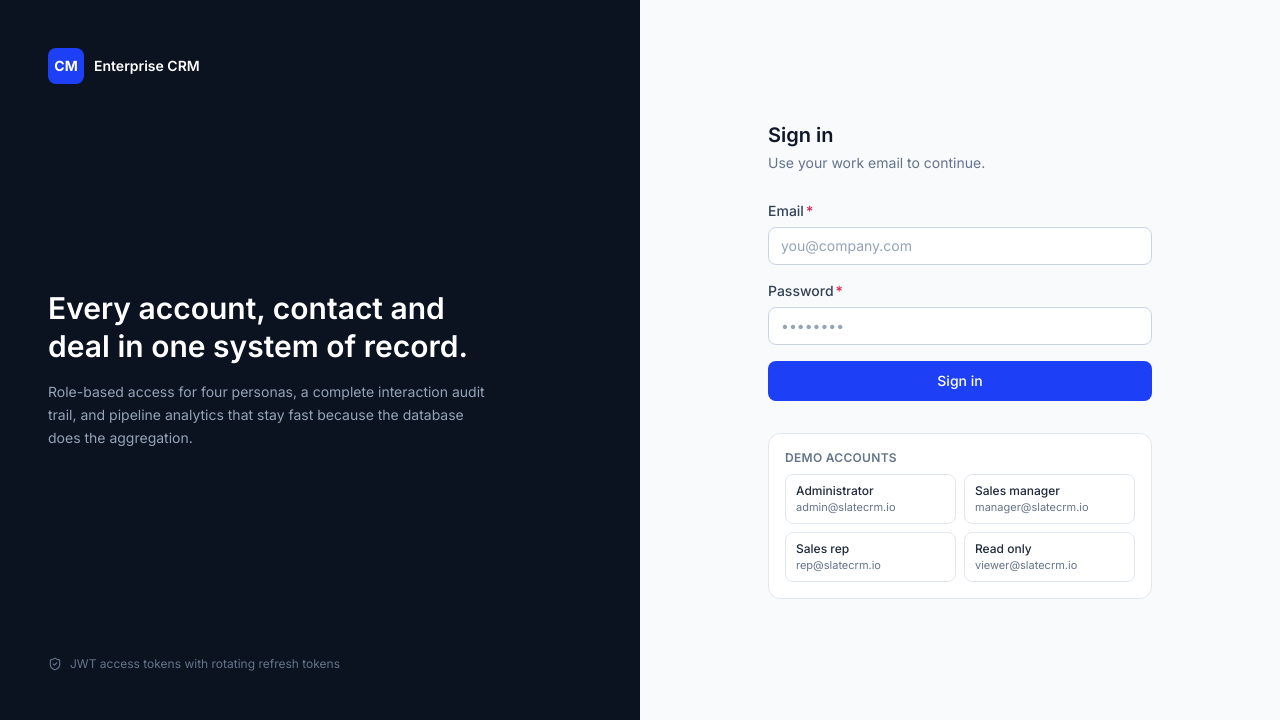
Test: <LoginPage /> › fills the form from a demo account shortcut
Click the button "Sales manager manager@slatecrm.io" at (1050, 499), box [964,474,1135,524]
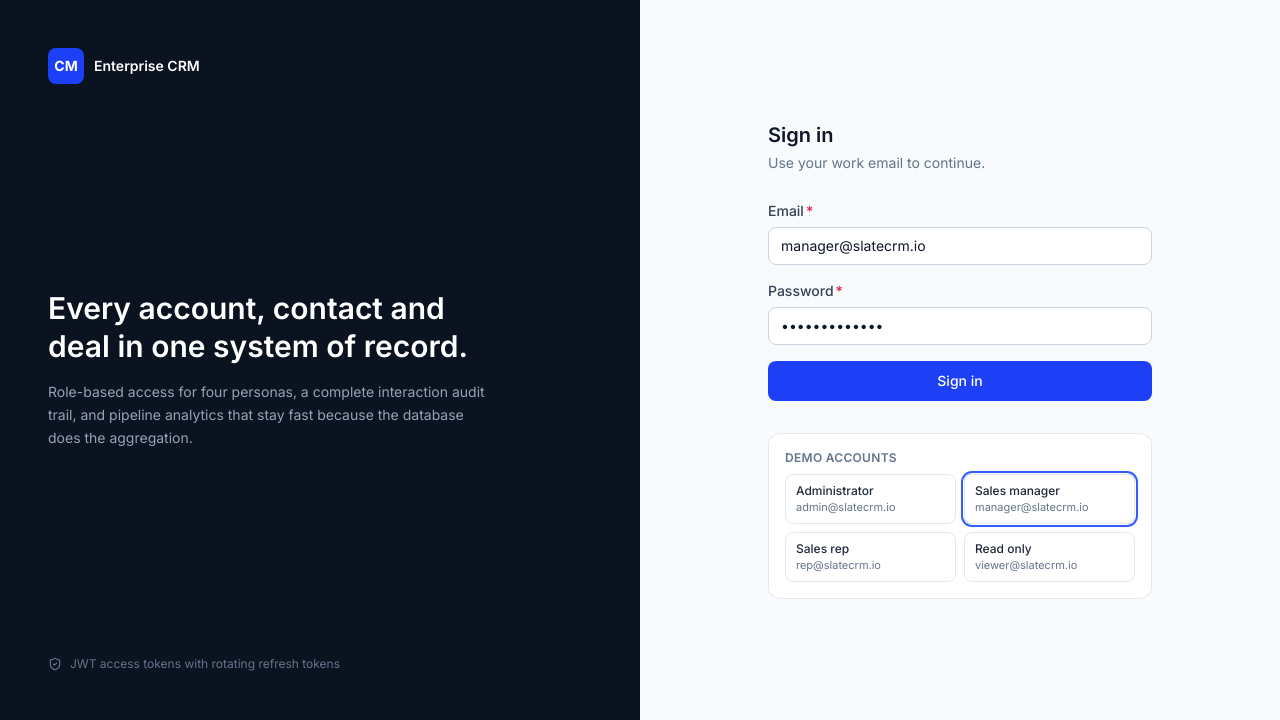
Now the field labelled "Email*" holds "manager@slatecrm.io", box [768,227,1152,265]
Now the password field labelled "Password*" holds "Manager@12345", box [768,307,1152,345]
